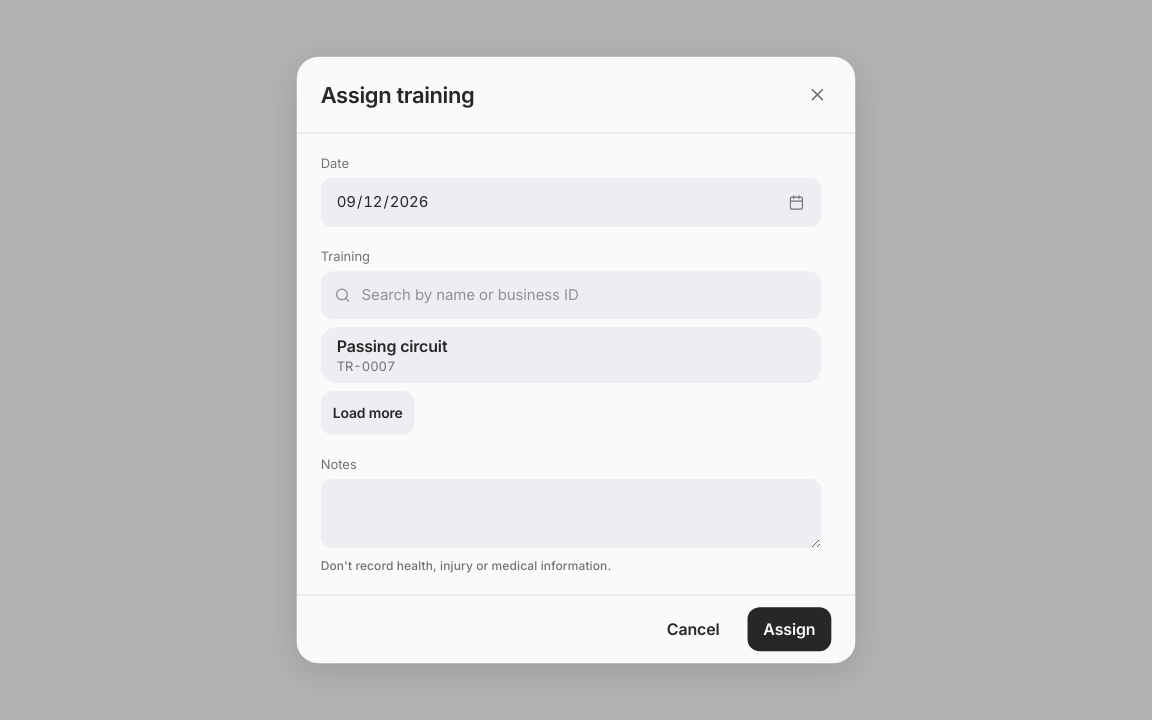
Scenario: AssignTrainingDialog › pages the training picker with Load more
The image size is (1152, 720).
Expected: the radio button labelled "Passing circuit TR-0007" is shown, [336,336,447,374]
Step 1. Click the button "Load more" → (367,413), box [320,391,414,435]
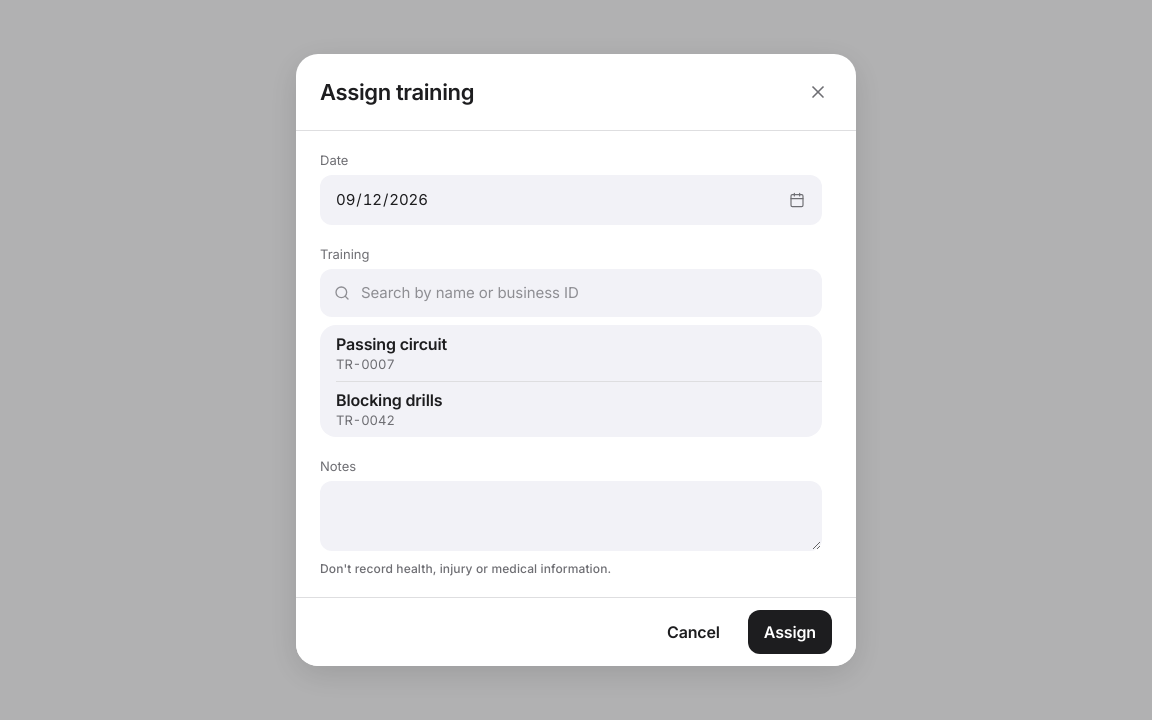
Step 2. Click the radio button labelled "Blocking drills TR-0042" → (389,409), box [336,390,442,428]
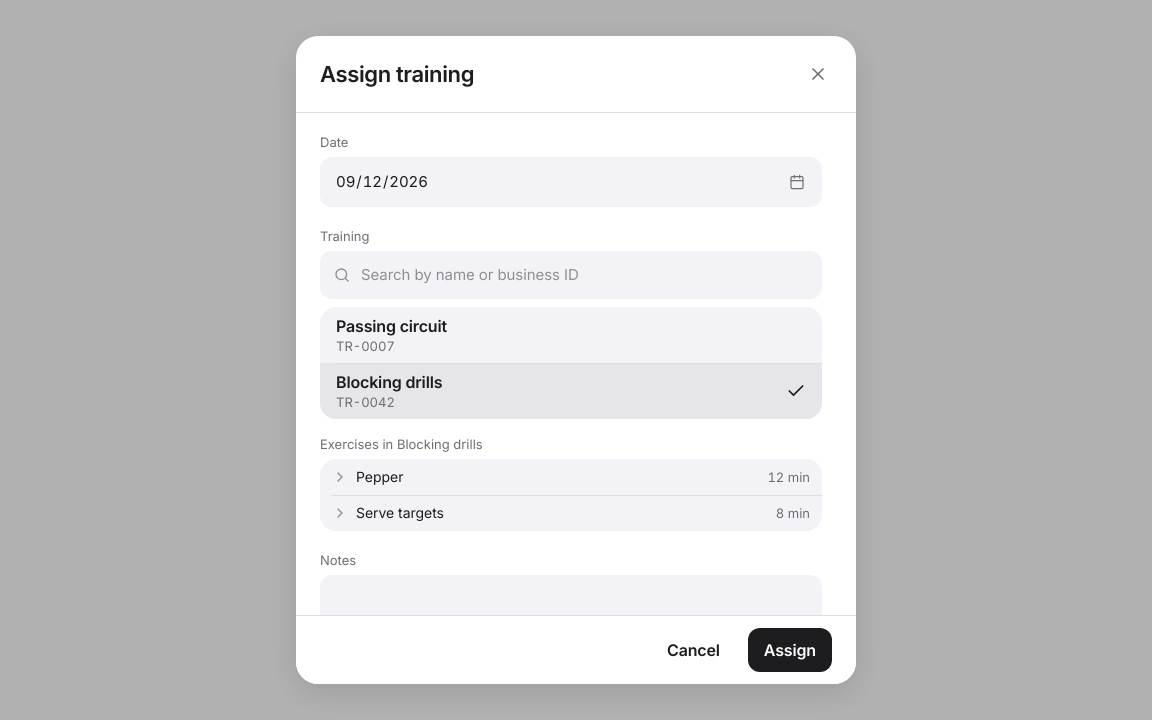
Now the radio button labelled "Blocking drills TR-0042" is checked, box [320,363,822,419]
Now the list named "Training exercises" is shown, box [320,459,822,531]
